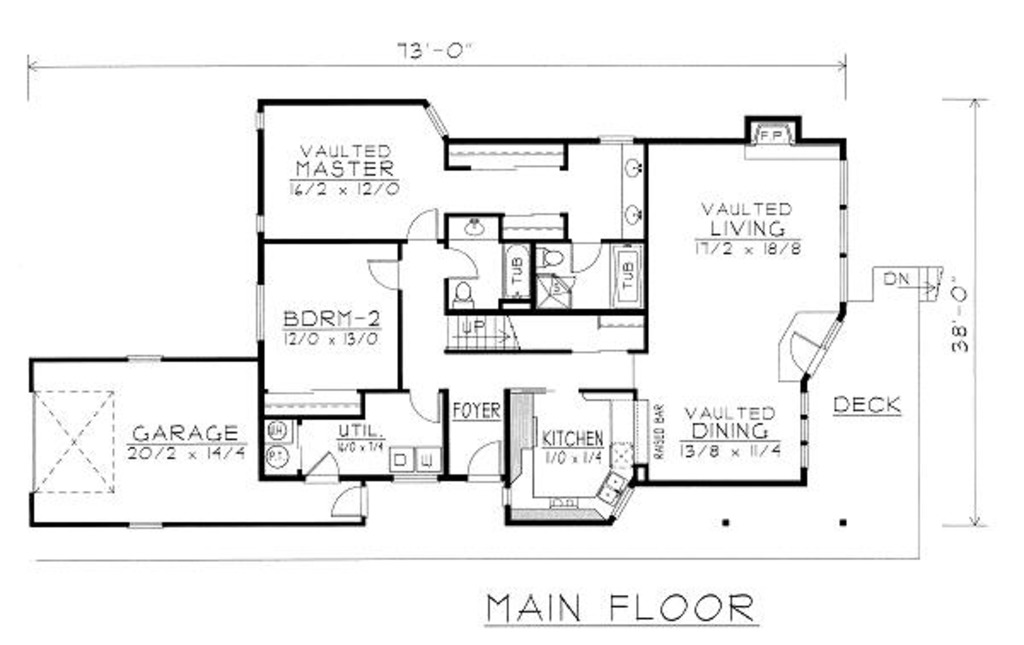door: (785, 325, 828, 375), (320, 482, 373, 520), (463, 441, 508, 482), (436, 243, 480, 281), (403, 204, 442, 245), (362, 255, 404, 293), (402, 390, 445, 427), (569, 237, 602, 275), (304, 452, 343, 482)
large_sink: (446, 279, 481, 312), (535, 242, 571, 271)
small_sink: (618, 143, 649, 238), (449, 212, 501, 238)
stairs: (440, 313, 575, 353)
tub: (605, 241, 646, 310), (503, 238, 532, 298)
window: (615, 486, 651, 524), (798, 386, 814, 470), (422, 99, 450, 142), (117, 348, 165, 367), (256, 282, 269, 342), (252, 104, 271, 141), (121, 520, 163, 531), (599, 131, 636, 143), (255, 212, 268, 230)
